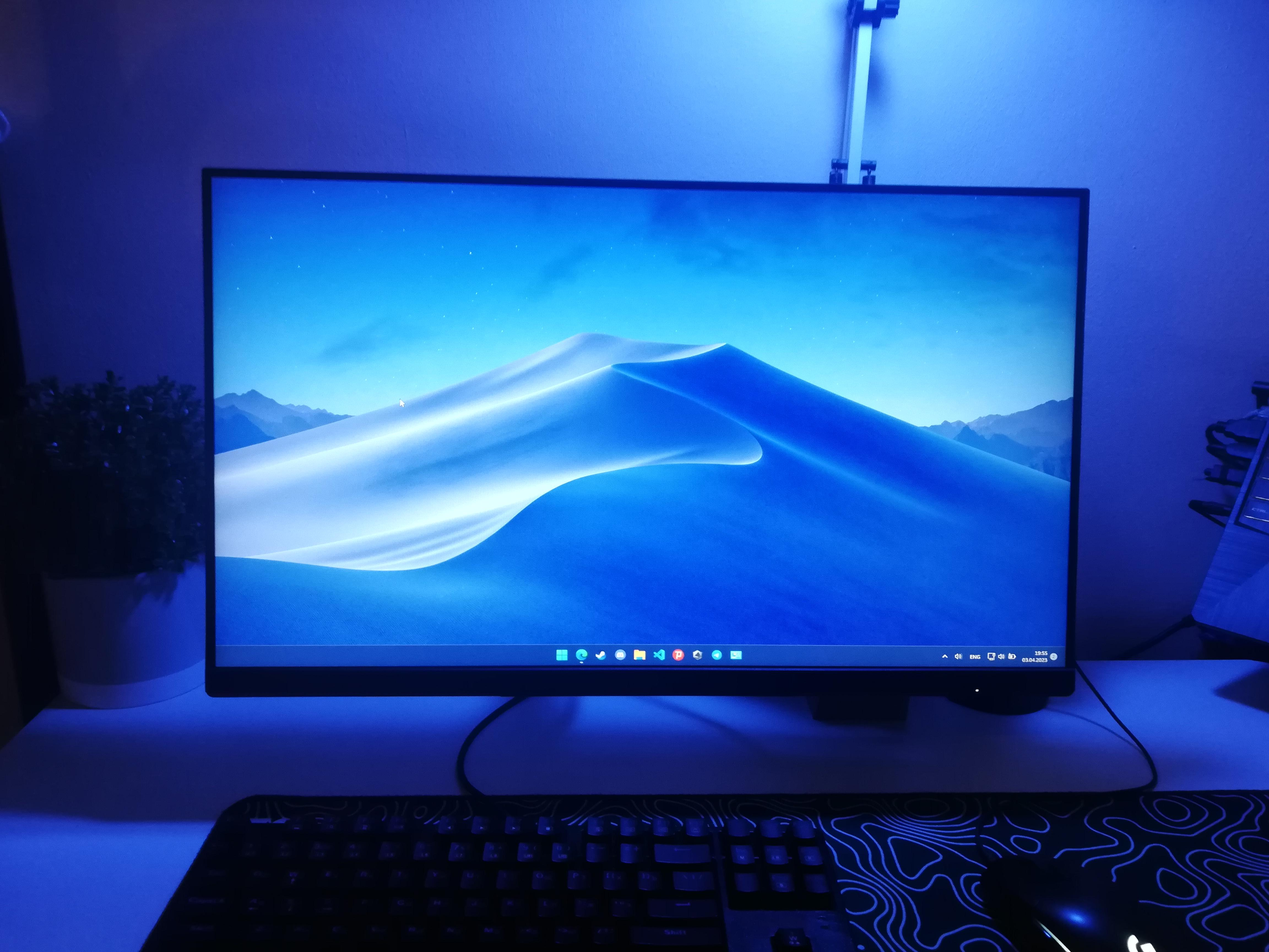monitor: (199, 165, 1093, 702)
